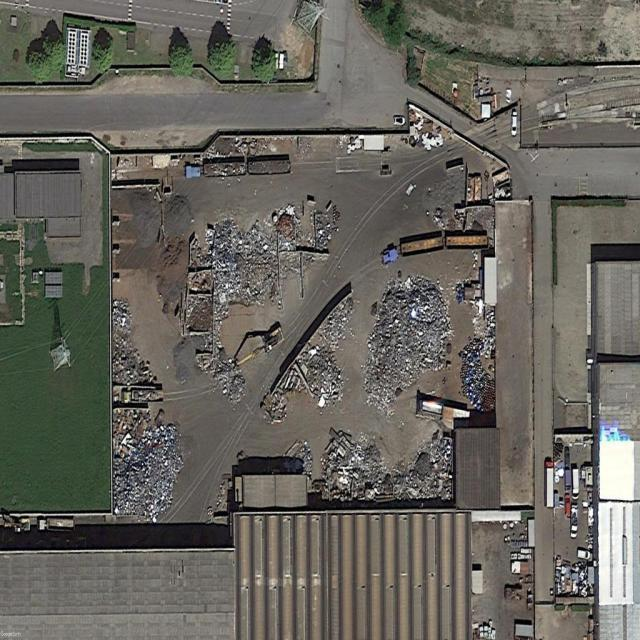dump_site: (259, 290, 359, 422), (358, 275, 454, 397), (322, 430, 454, 500), (113, 408, 180, 517), (112, 296, 159, 385), (214, 264, 279, 318), (213, 213, 278, 266), (304, 346, 348, 418), (206, 346, 248, 412), (316, 212, 332, 249), (301, 438, 314, 475), (214, 319, 222, 353)
